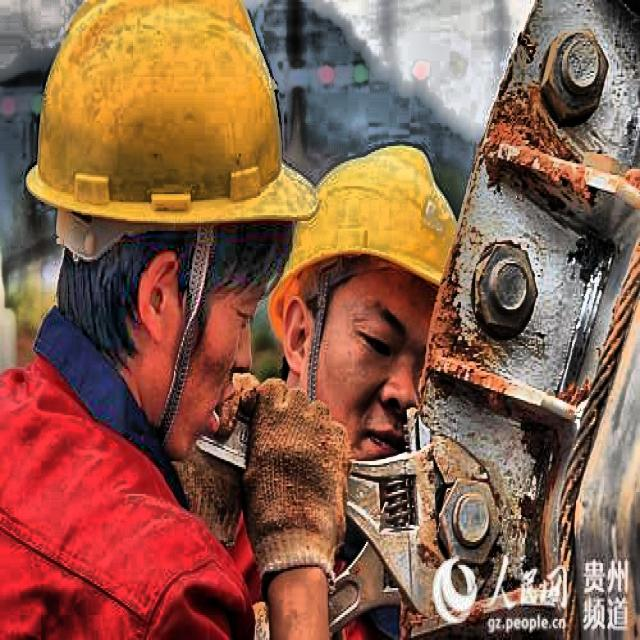helmet: (23, 0, 347, 469), (273, 113, 476, 490)
